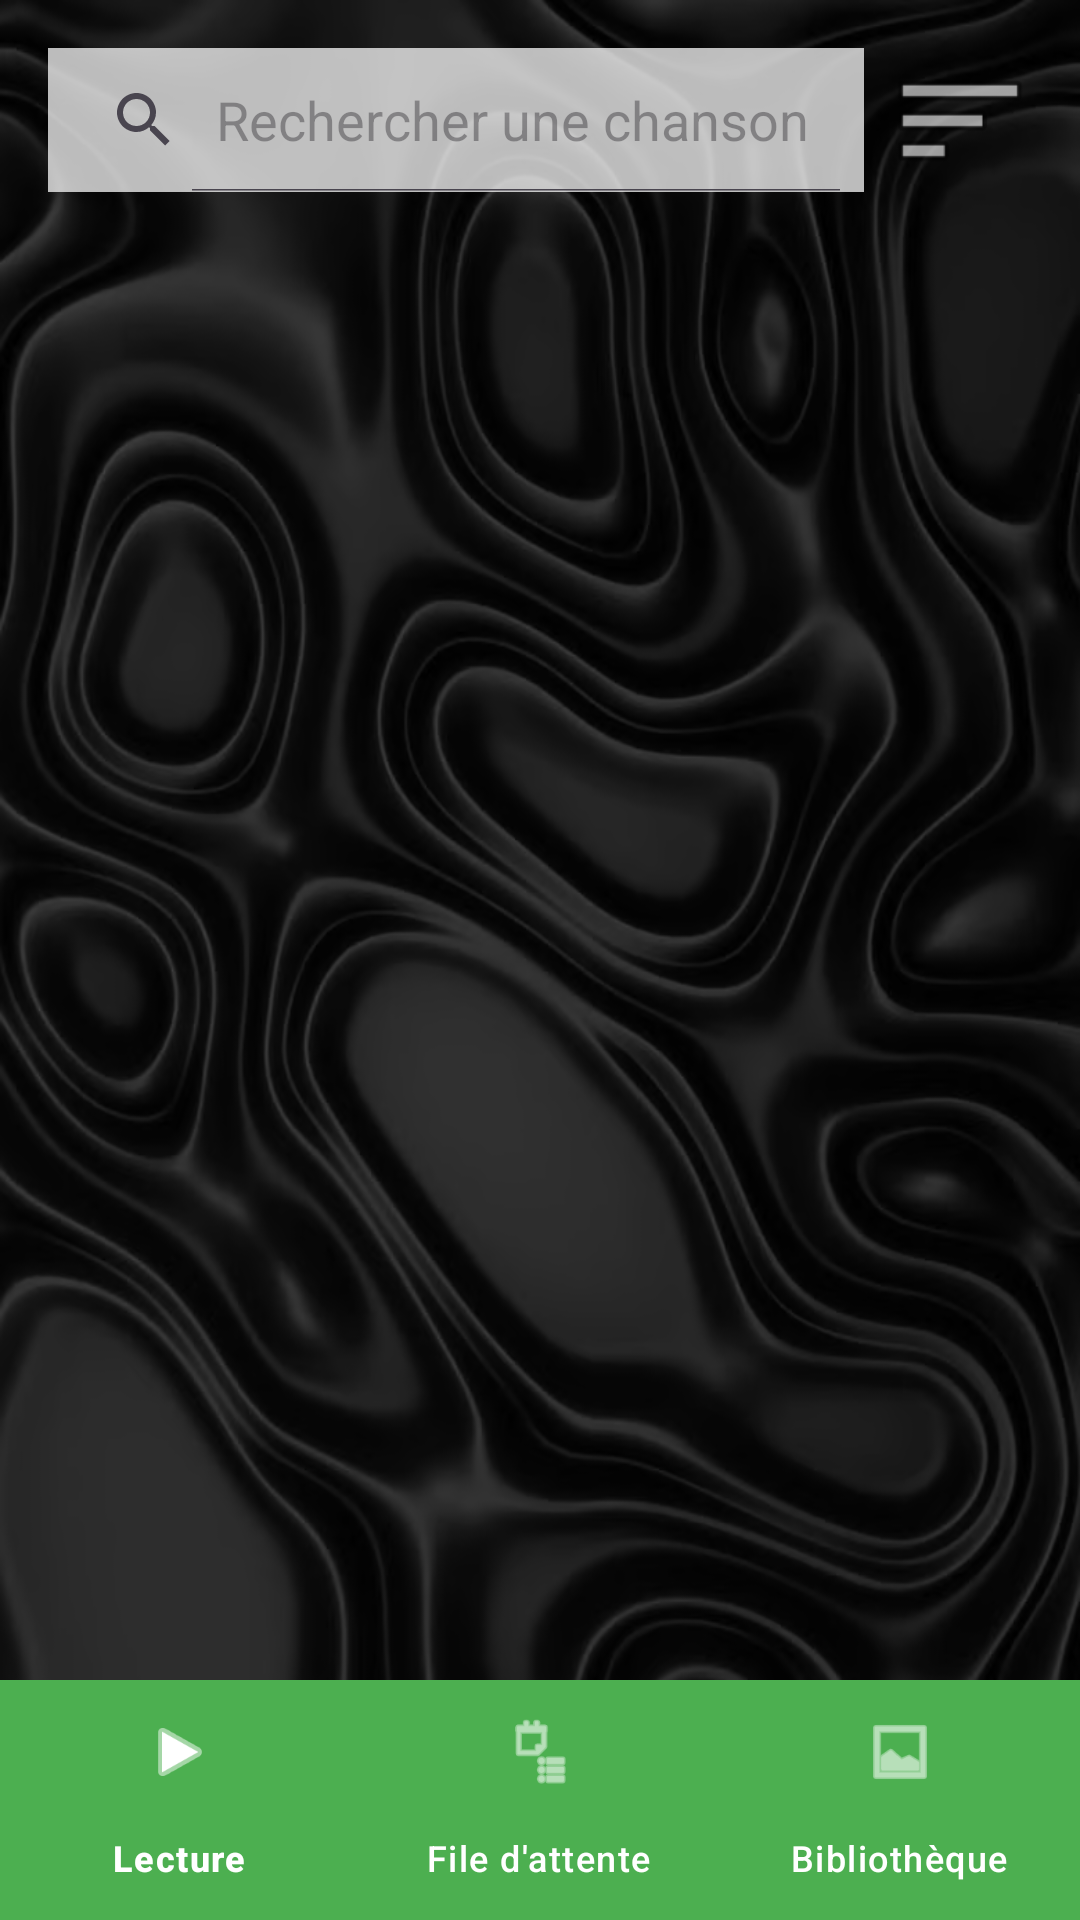

Named icons in this screenshot (1080x1920) and their bounding boxes, {"x1": x1, "y1": y1, "x2": x2, "y2": y2}:
Filtrer: {"x1": 902, "y1": 75, "x2": 1032, "y2": 187}
